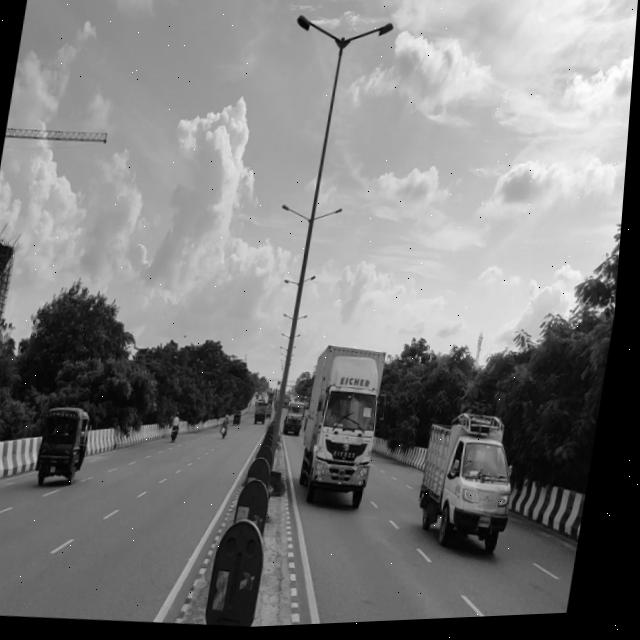truck: (416, 414, 536, 566), (301, 344, 401, 512)
